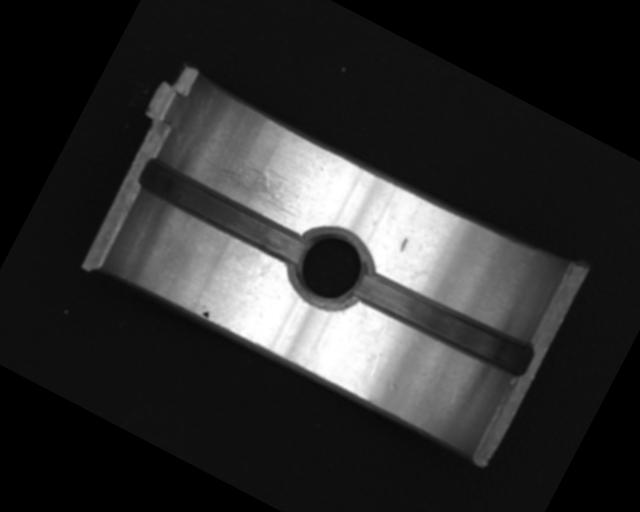blot: (199, 306, 212, 319)
bruise: (396, 235, 410, 253)
gap: (349, 259, 537, 383), (135, 154, 310, 269)
hole: (276, 217, 380, 321)
nick: (360, 316, 401, 377)
scratch: (198, 141, 313, 223)
